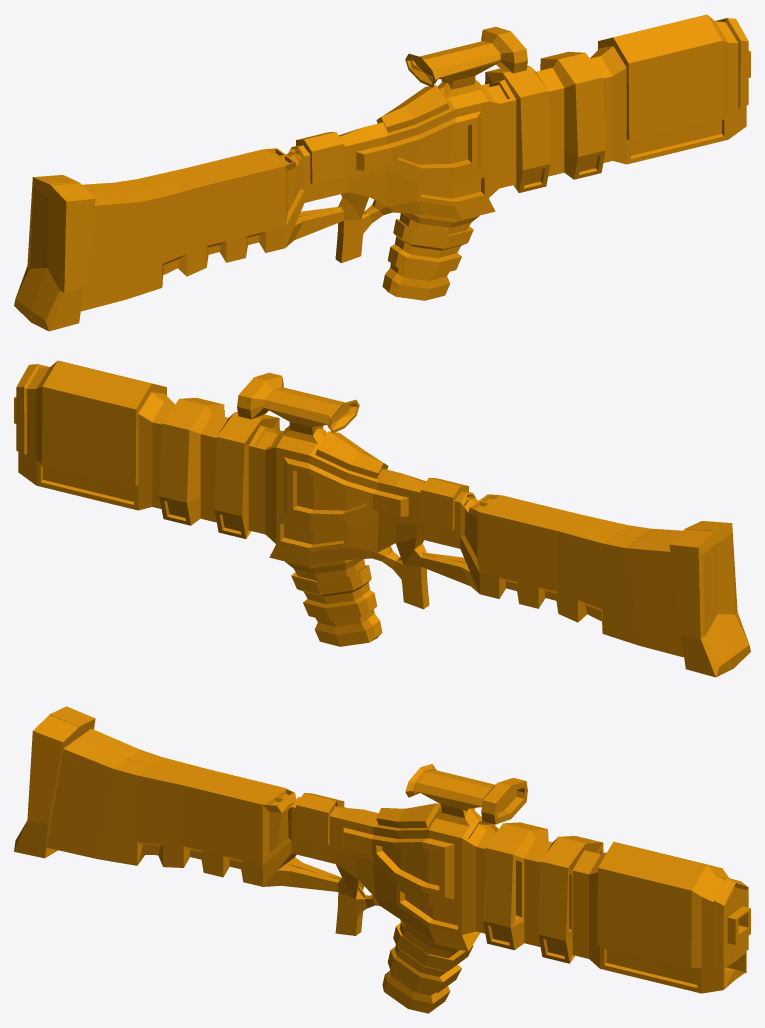
The model's file is space gun.fbx.
3 renders of one model, top to bottom at view 1: azimuth 30°, elevation 25°; view 2: azimuth 150°, elevation 25°; view 3: azimuth 330°, elevation 25°, orthographic.
Parts seen in each view (by area): view 1: Cube; view 2: Cube; view 3: Cube.
Boxes of the visible parts, bbox=[...] form: Cube: bbox=[14, 14, 750, 331]; Cube: bbox=[14, 360, 750, 677]; Cube: bbox=[14, 706, 750, 1013].
Size of the model in its own units: 1296 by 417 by 125.
